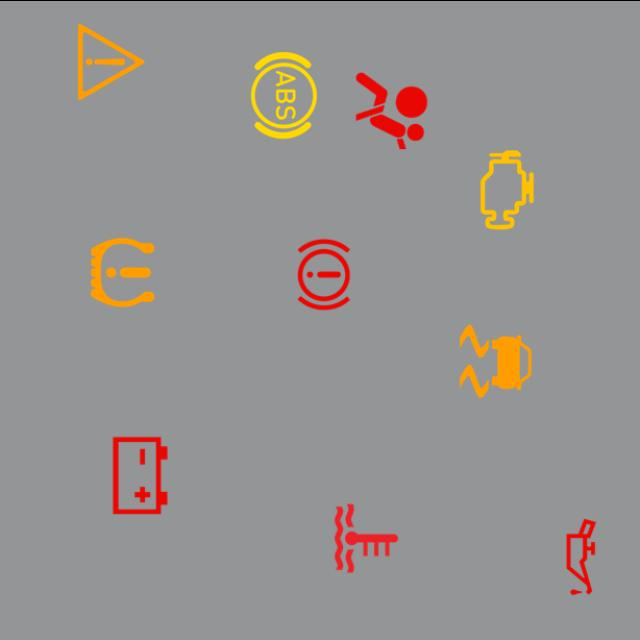Anti Lock Braking System: (236, 47, 332, 142)
Braking System Issue: (276, 226, 371, 321)
Charging System Issue: (92, 428, 188, 522)
Check Engine: (460, 142, 554, 236)
Electronic Stability Problem -ESP-: (448, 312, 543, 408)
Engine Overheating Warning Light: (319, 490, 414, 585)
Low Engine Oil Warning Light: (534, 508, 628, 604)
Low Tire Pressure Warning Light: (75, 224, 170, 319)
Master warning light: (64, 13, 158, 108)
SRS-Airbag: (344, 62, 439, 158)
